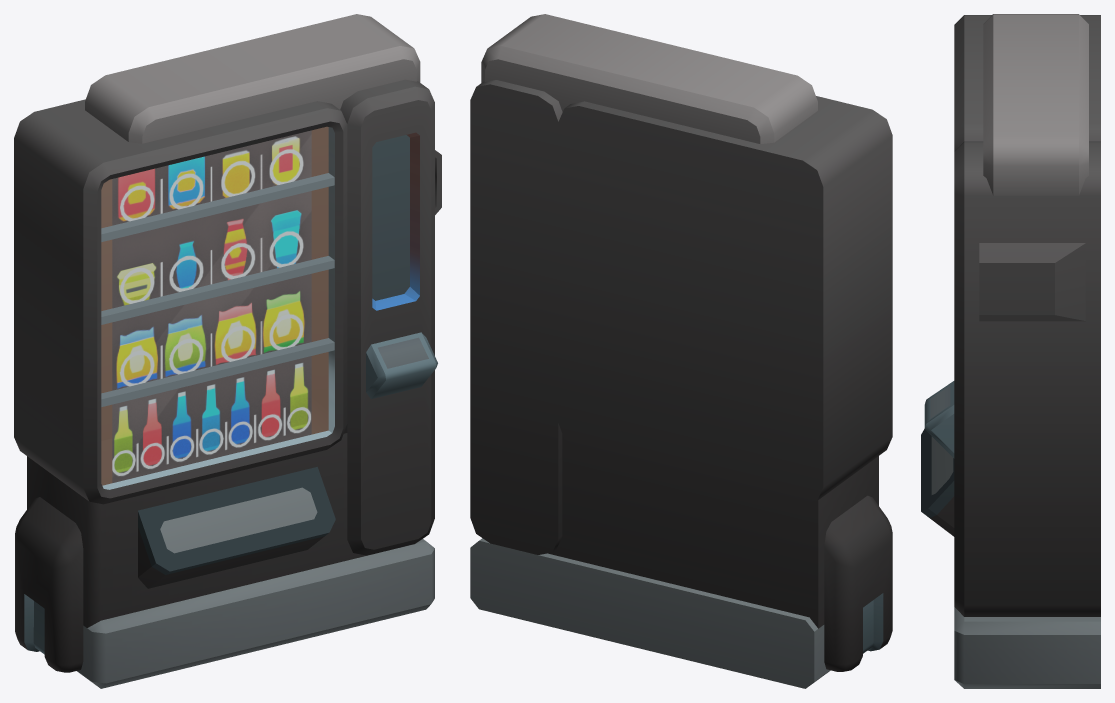
The model's file is Vending_Machine_004.glb.
The picture shows the model from 3 angles, left to right: view 1: azimuth 30°, elevation 25°; view 2: azimuth 150°, elevation 25°; view 3: azimuth 270°, elevation 25°; orthographic projection.
Visible parts, largest first — view 1: Vending_Machine_004; view 2: Vending_Machine_004; view 3: Vending_Machine_004.
Part boxes in pixels (<box>): Vending_Machine_004: <box>14,14,441,688</box>; Vending_Machine_004: <box>470,14,892,688</box>; Vending_Machine_004: <box>921,14,1100,688</box>.
Bounding box in the file's own units: 1.52 × 2.11 × 0.6295.
Materials: 3 (3 with a texture image).
